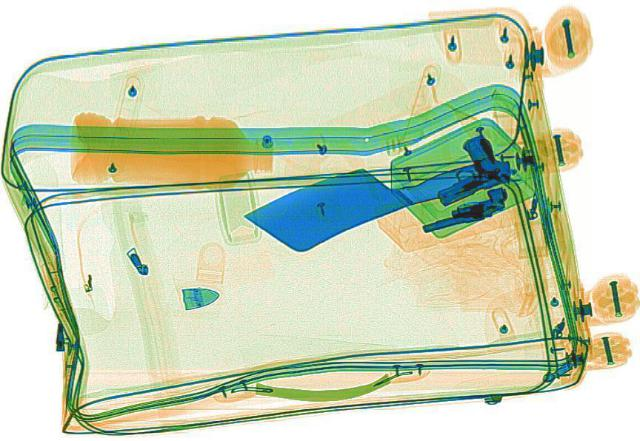Gun: (410, 130, 522, 204), (407, 178, 517, 241)
Knife: (237, 130, 515, 263)
